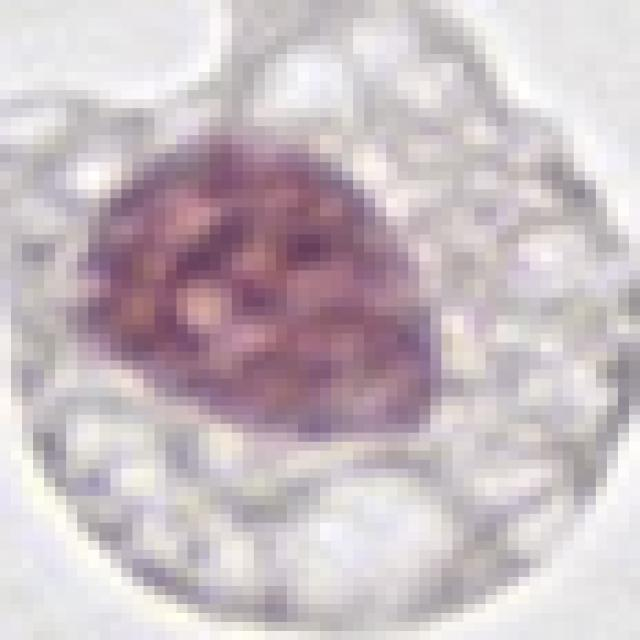cytoplasm: (0, 0, 629, 631)
nucleus: (27, 83, 511, 502)
